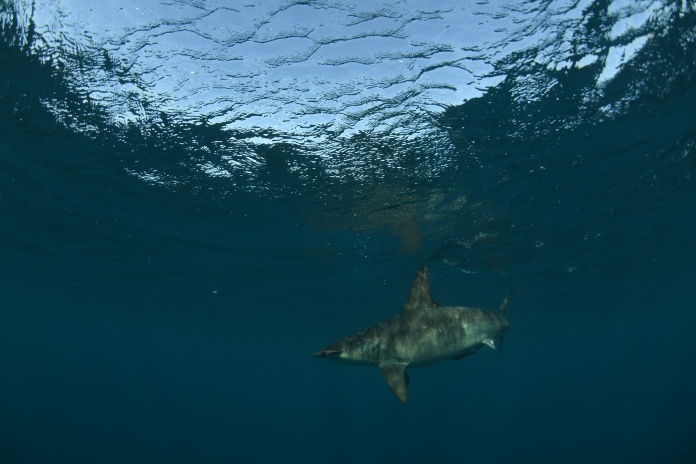Hammer: (311, 256, 531, 402)
